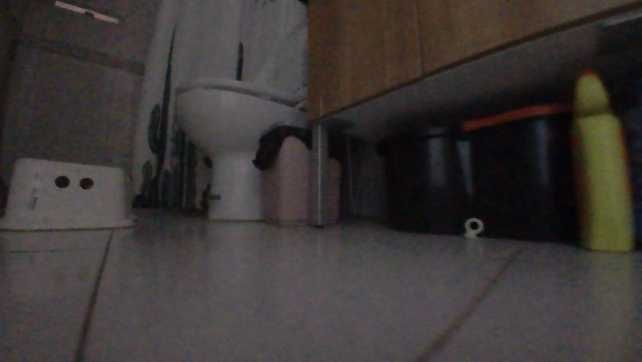toilet: (174, 20, 310, 220)
trash_can: (250, 120, 345, 225)
